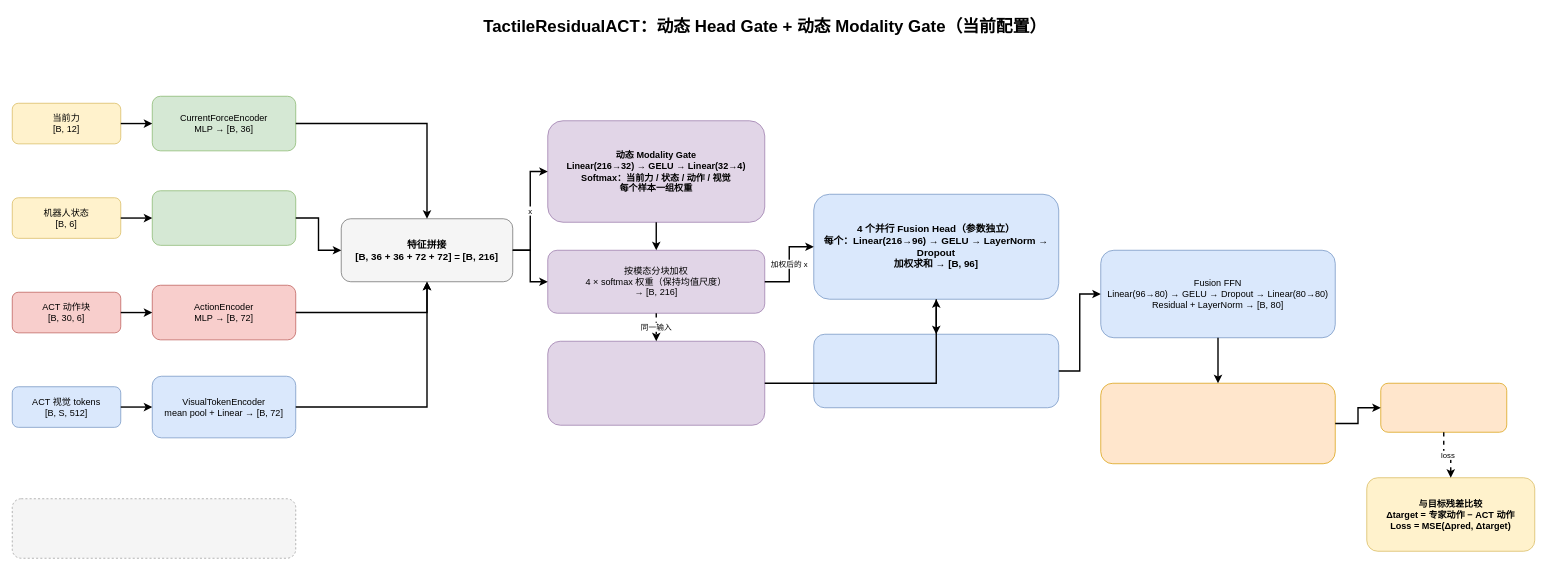
The diagram is 1547 pixels wide and 571 high, and some of its shapes have lost their labels. The shapes that lost their labels are listed below. From the top down, each one's centre as x and y in pixels, then its label:
At pixel 224 217: "StateEncoder MLP → [B, 36]".
At pixel 656 383: "动态 Head Gate Linear(216→32) → GELU → Linear(32→4) Softmax：每个样本 4 个 head 权重".
At pixel 936 371: "Residual Skip Linear(216→96) 与 Head 融合结果相加 + LayerNorm".
At pixel 1217 423: "ResidualDecoder Linear(80→48) → ReLU → Linear(48→180) Reshape → [B, 30, 6]".
At pixel 1443 407: "预测残差 Δpred [B, 30, 6]".
At pixel 154 528: "触觉历史分支当前关闭 tactile_encoder.enabled: false 若开启，将额外加入 VQ-VAE 输出 [B, 512]".
